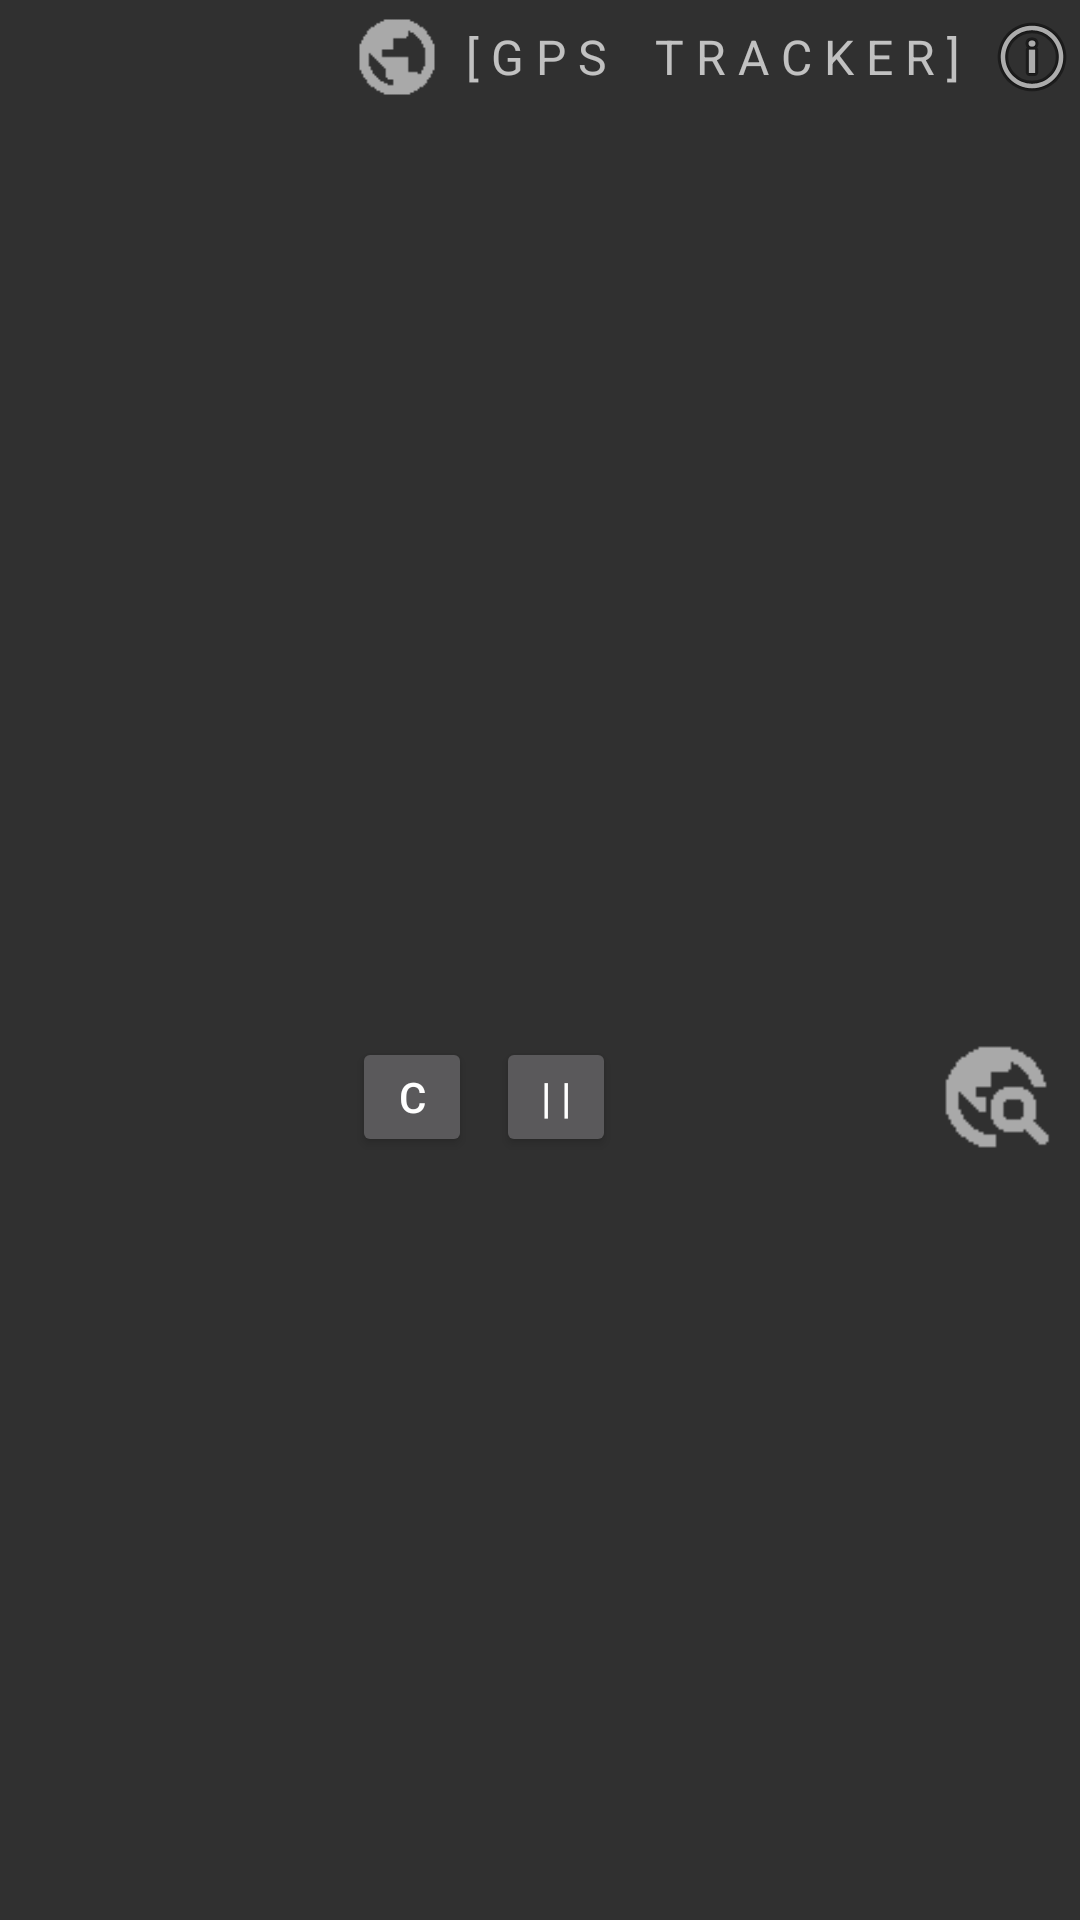

Screen size 1080px×1920px. Icon name, then its center in pixels as point (x, y):
info details: point (1032, 57)
public: point (397, 57)
travel explore: point (997, 1097)
